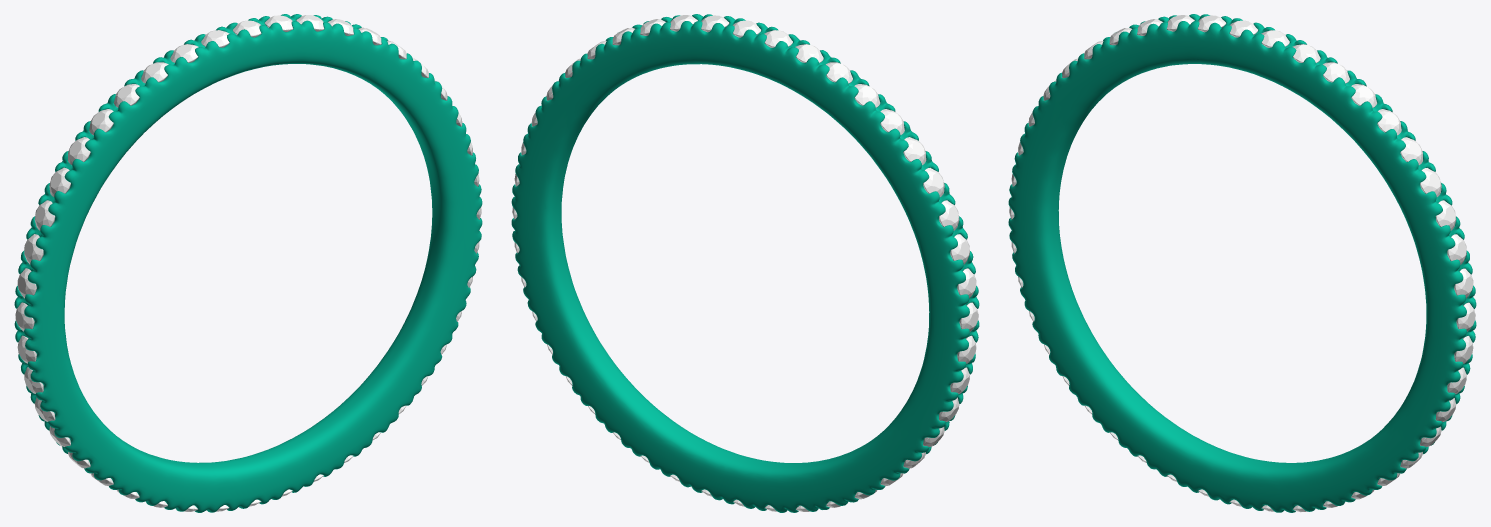
File: BE2D1823E_RENDER.glb
The picture shows the model from 3 angles, left to right: view 1: azimuth 30°, elevation 25°; view 2: azimuth 150°, elevation 25°; view 3: azimuth 330°, elevation 25°; orthographic projection.
Visible parts, largest first — view 1: Metal03; view 2: Metal03; view 3: Metal03.
Part boxes in pixels (bbox=[...]): Metal03: bbox=[14, 14, 482, 512]; Metal03: bbox=[511, 14, 979, 512]; Metal03: bbox=[1008, 14, 1476, 512].
Bounding box in the file's own units: 20.08 × 20.08 × 1.4.
